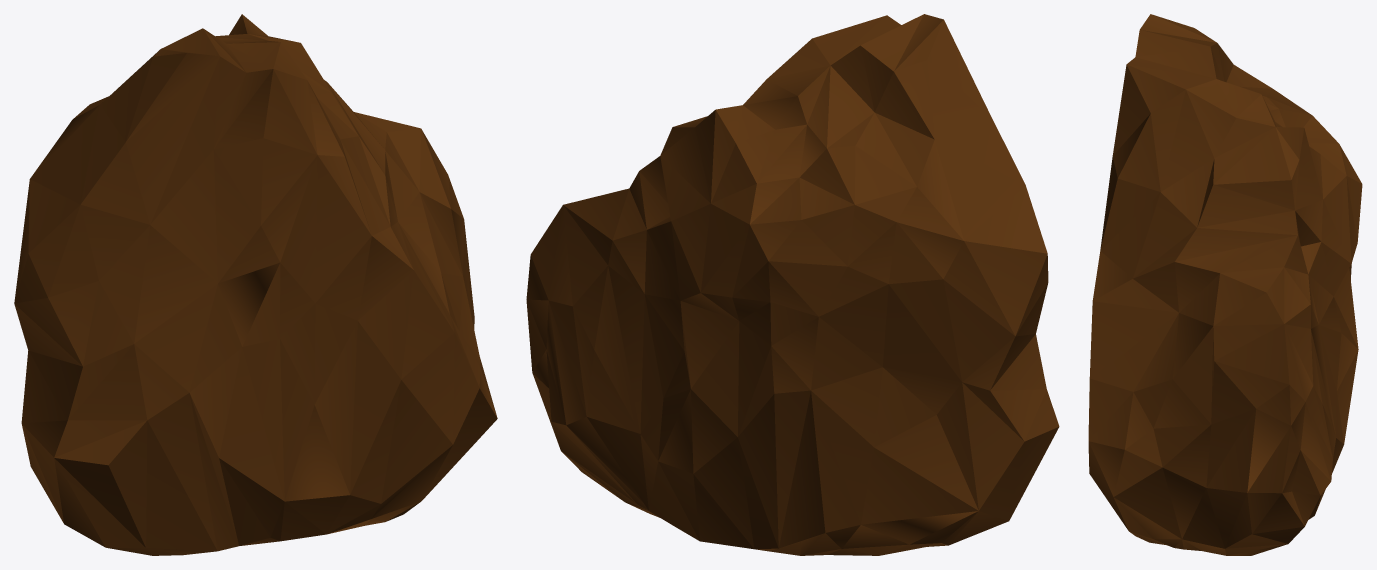
File: 3DModel_LowPoly.001.fbx
3 views of the same model, side by side, from view 1: azimuth 30°, elevation 25°; view 2: azimuth 150°, elevation 25°; view 3: azimuth 270°, elevation 25° (orthographic). The views are drawn at different scales.
Parts seen in each view (by area): view 1: 3DModel_LowPoly.001; view 2: 3DModel_LowPoly.001; view 3: 3DModel_LowPoly.001.
Part boxes in pixels (left/top/right/bottom): 3DModel_LowPoly.001: left=14, top=14, right=497, bottom=555; 3DModel_LowPoly.001: left=526, top=14, right=1059, bottom=555; 3DModel_LowPoly.001: left=1088, top=14, right=1362, bottom=555.
Bounding box in the file's own units: 3.14 × 1.82 × 3.2.
